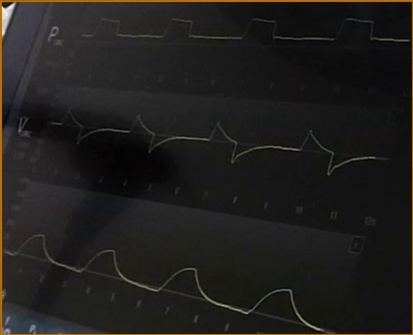Normal Flow: (50, 101, 376, 176)
Normal Volume: (3, 227, 324, 330)
